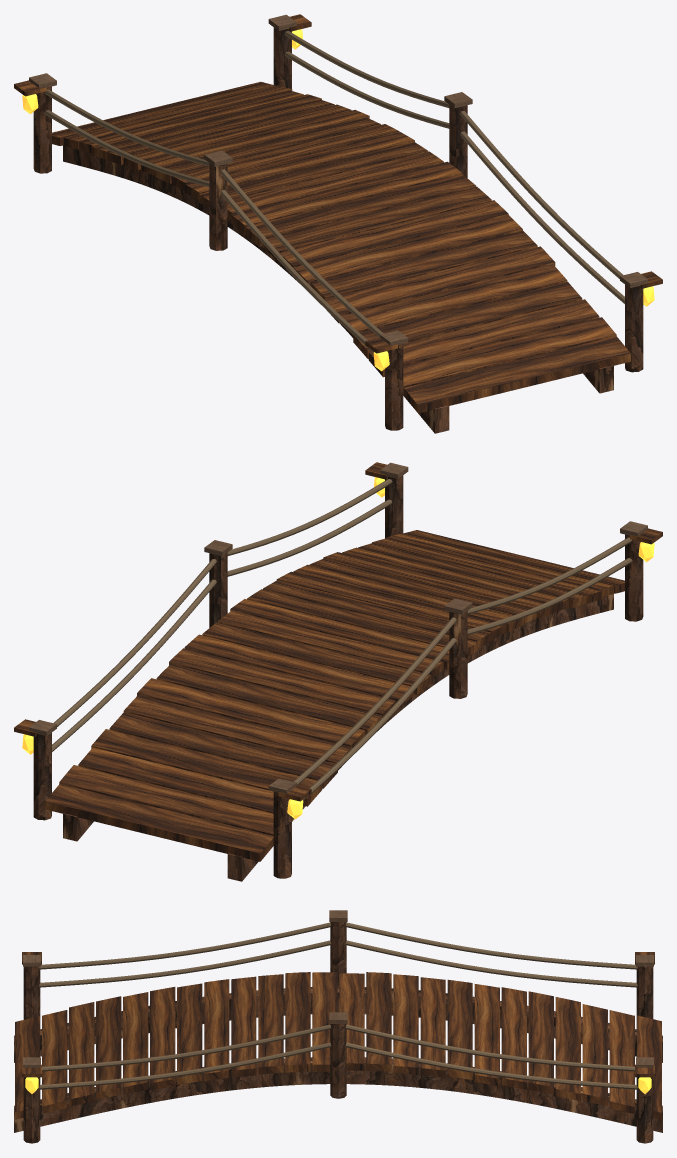
3 views of the same model, one above another, from view 1: azimuth 30°, elevation 25°; view 2: azimuth 150°, elevation 25°; view 3: azimuth 270°, elevation 25° (orthographic). The views are drawn at different scales.
Parts seen in each view (by area): view 1: woodland-timber-bridge · evaluated preview mesh; view 2: woodland-timber-bridge · evaluated preview mesh; view 3: woodland-timber-bridge · evaluated preview mesh.
Part boxes in pixels (<box>): woodland-timber-bridge · evaluated preview mesh: <box>14,14,662,433</box>; woodland-timber-bridge · evaluated preview mesh: <box>14,462,662,881</box>; woodland-timber-bridge · evaluated preview mesh: <box>14,910,662,1143</box>.
Size of the model in its own units: 8 by 3.97 by 18.
5 materials, 3 textured.
